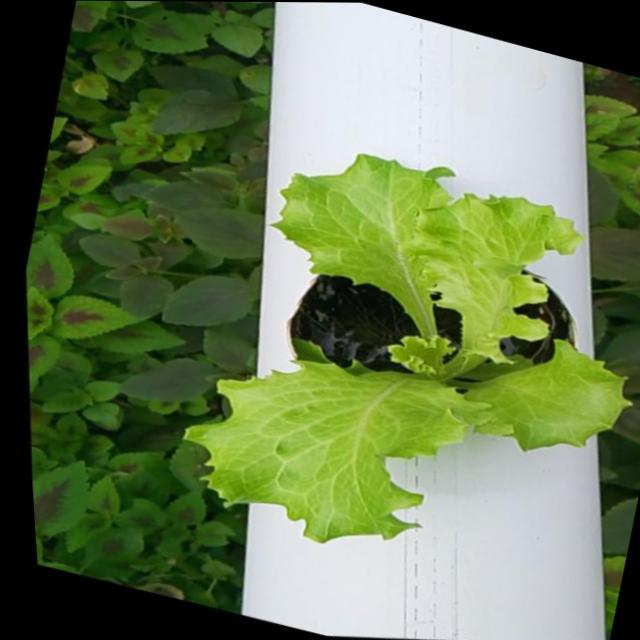Baby: (185, 152, 629, 541)
